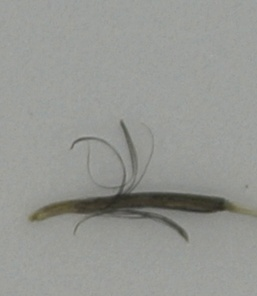เมล้ดปลายพู่กัน: (28, 114, 257, 245)
